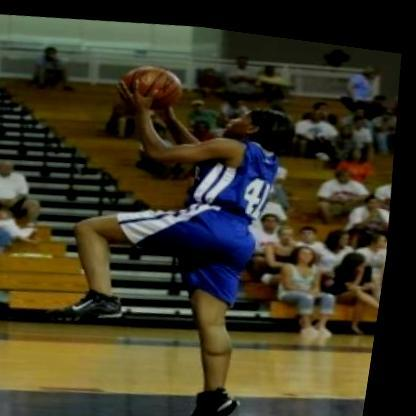basketball: (123, 59, 188, 108)
